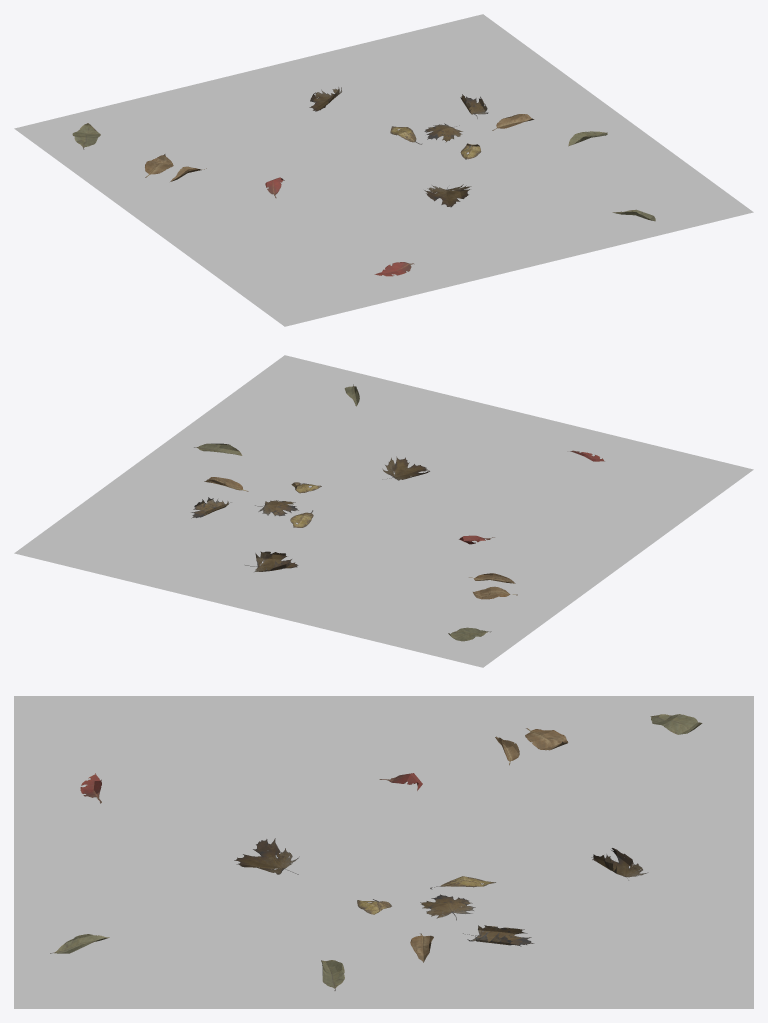
Rendered from Leaves4.FBX.
3 views of the same model, one above another, from view 1: azimuth 30°, elevation 25°; view 2: azimuth 150°, elevation 25°; view 3: azimuth 270°, elevation 25° (orthographic). The views are drawn at different scales.
Parts seen in each view (by area): view 1: Leaves4_Decal, Leaves4; view 2: Leaves4_Decal, Leaves4; view 3: Leaves4_Decal, Leaves4.
Part boxes in pixels (x1=…): Leaves4_Decal: x1=14, y1=14, x2=753, y2=326; Leaves4: x1=72, y1=87, x2=655, y2=276; Leaves4_Decal: x1=14, y1=355, x2=753, y2=667; Leaves4: x1=191, y1=384, x2=604, y2=641; Leaves4_Decal: x1=14, y1=696, x2=753, y2=1008; Leaves4: x1=50, y1=714, x2=702, y2=990.
Bounding box in the file's own units: 1.1 × 0.034 × 1.1.
